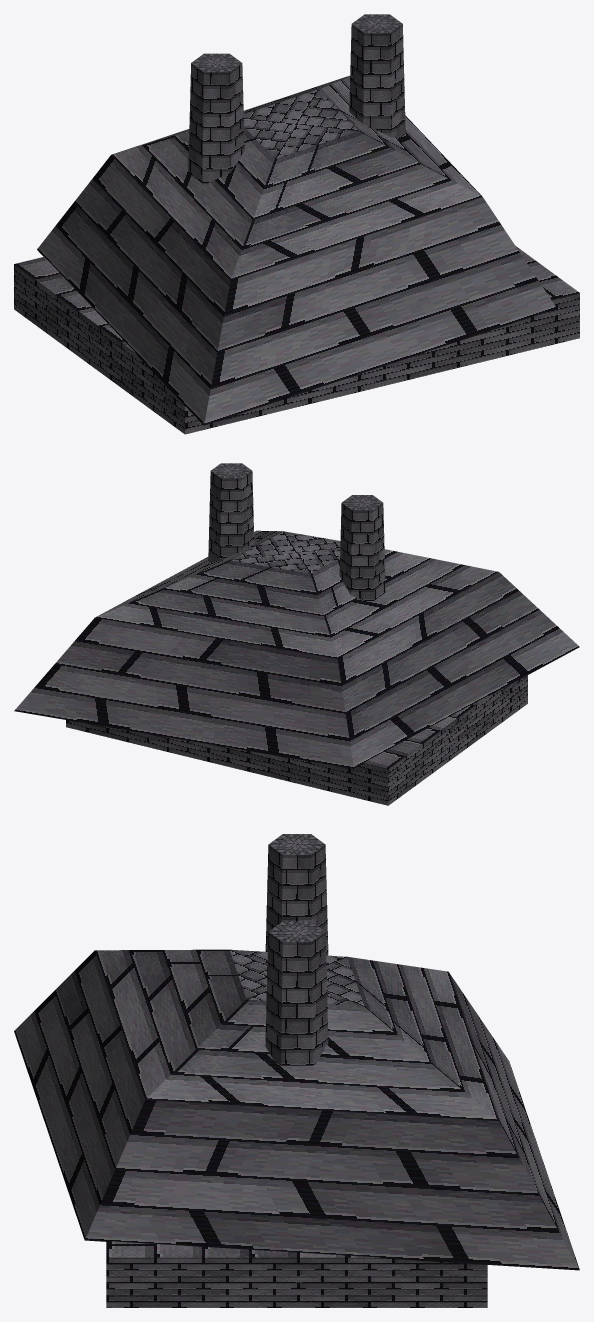
Rendered from telhado_02_ferraria.glb.
The picture shows the model from 3 angles, top to bottom: view 1: azimuth 30°, elevation 25°; view 2: azimuth 150°, elevation 25°; view 3: azimuth 270°, elevation 25°; orthographic projection. The views are drawn at different scales.
Parts seen in each view (by area): view 1: telhado_02_ferraria; view 2: telhado_02_ferraria; view 3: telhado_02_ferraria.
Boxes of the visible parts, left/top/right/bottom form: telhado_02_ferraria: left=14, top=14, right=579, bottom=434; telhado_02_ferraria: left=14, top=463, right=579, bottom=805; telhado_02_ferraria: left=14, top=834, right=579, bottom=1307.
Bounding box in the file's own units: 3.56 × 2.17 × 3.56.
1 material, 1 textured.
